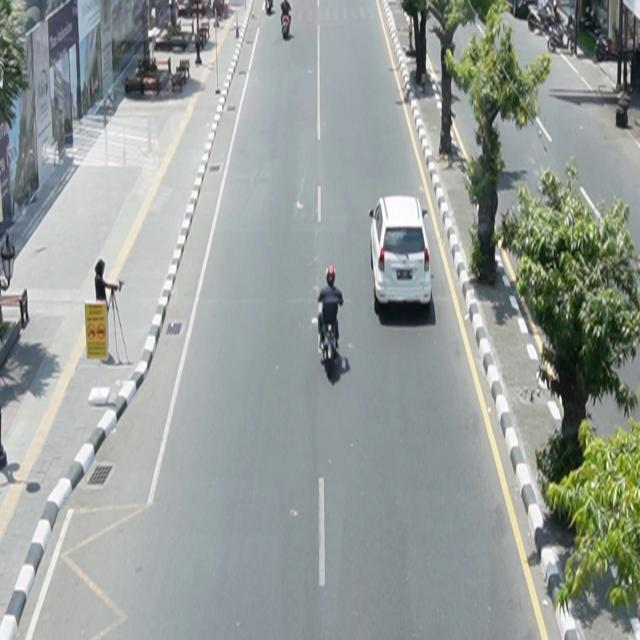car: (369, 195, 433, 309)
